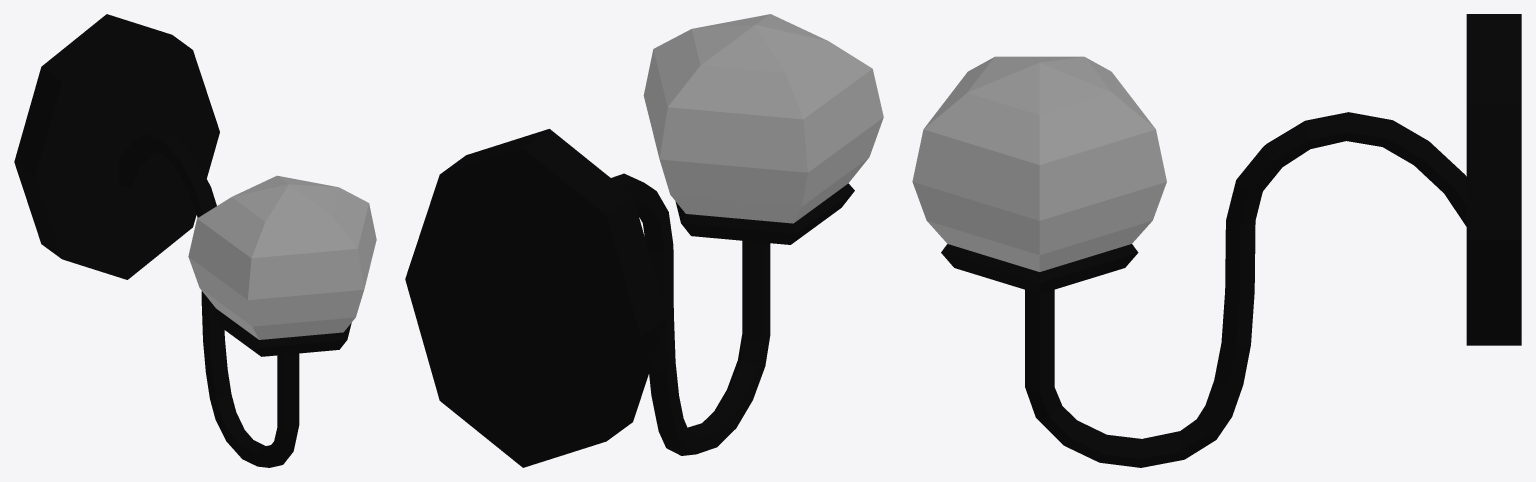
The model's file is RoundWallLight_On.glb.
3 renders of one model, left to right at view 1: azimuth 30°, elevation 25°; view 2: azimuth 150°, elevation 25°; view 3: azimuth 270°, elevation 25°, orthographic. The views are drawn at different scales.
Visible parts, largest first — view 1: roundWallLight_on; view 2: roundWallLight_on; view 3: roundWallLight_on.
Part boxes in pixels (box(x1,y1,x2,y2)): roundWallLight_on: box(14, 14, 376, 467); roundWallLight_on: box(405, 14, 883, 467); roundWallLight_on: box(912, 14, 1521, 467).
Bounding box in the file's own units: 0.2379 × 0.4199 × 0.5129.
Materials: 1 (1 with a texture image).
